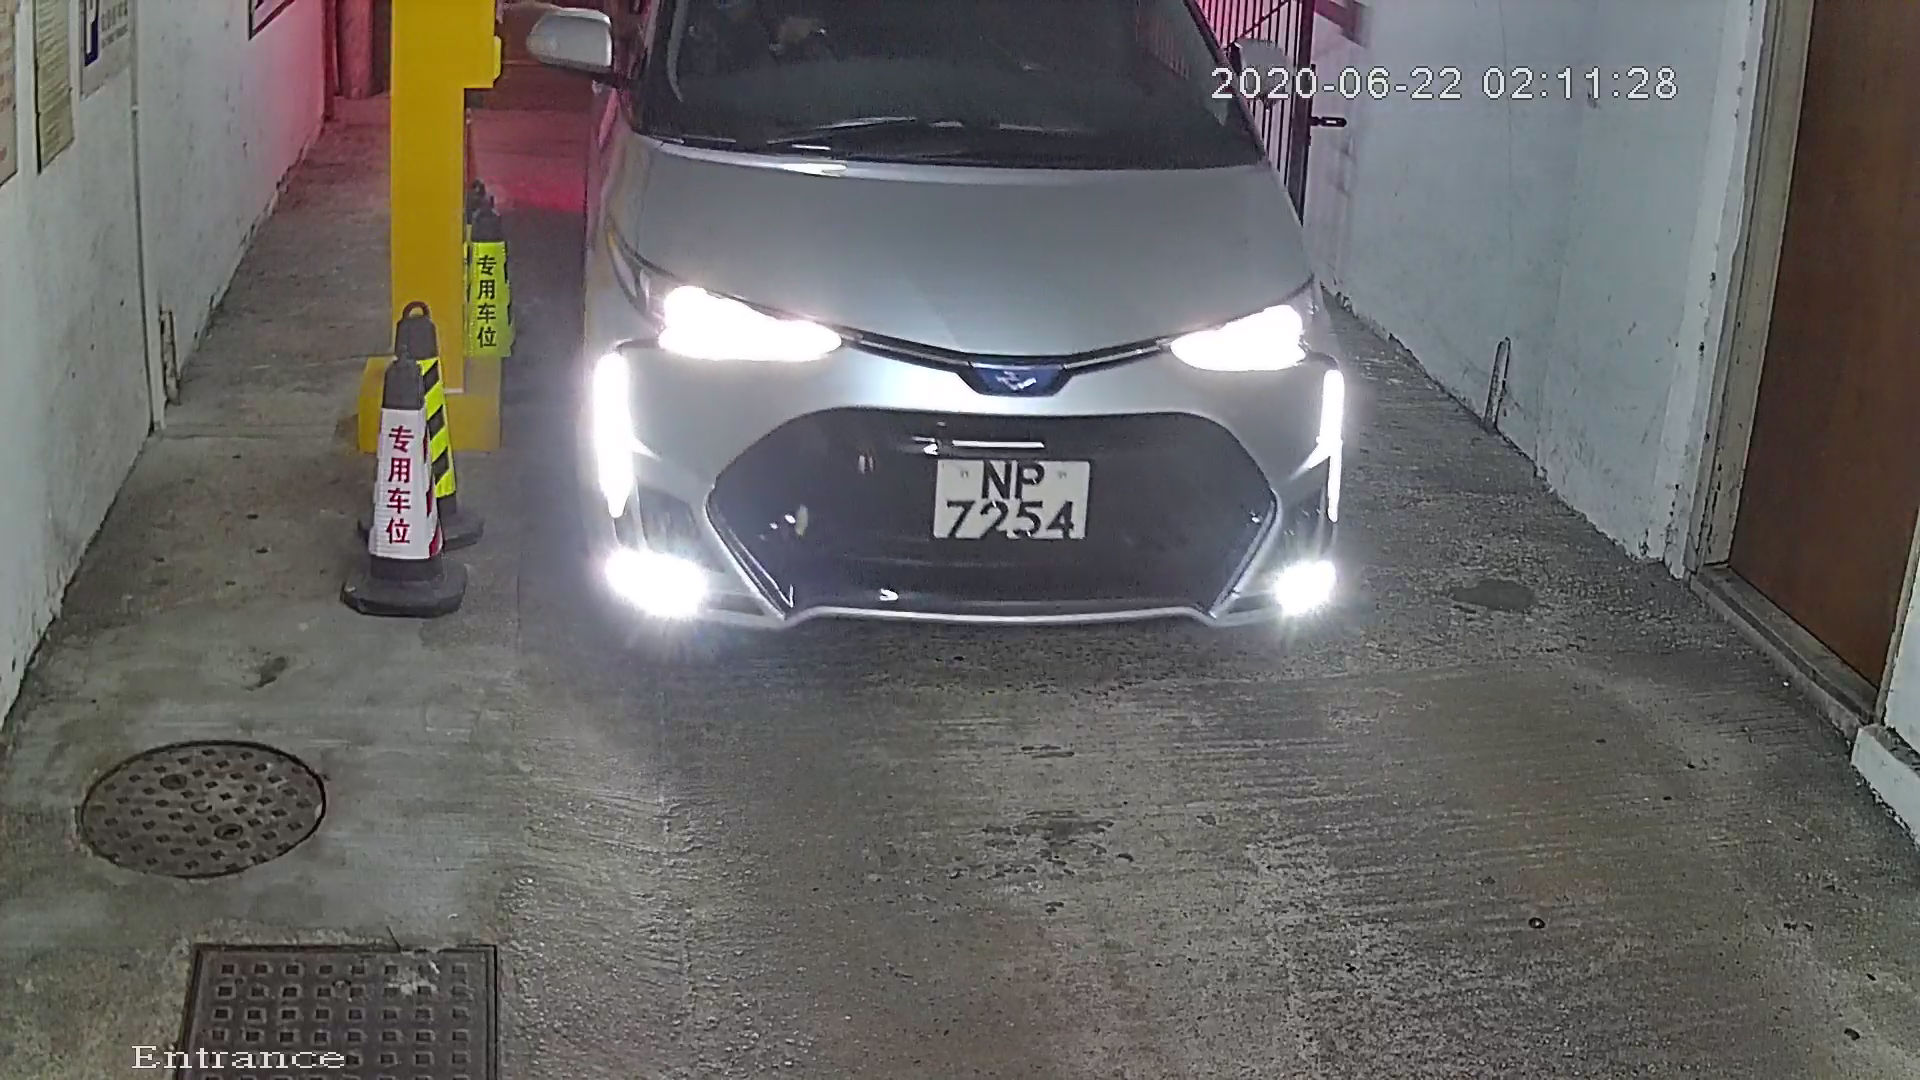privatecar: (529, 1, 1419, 752)
